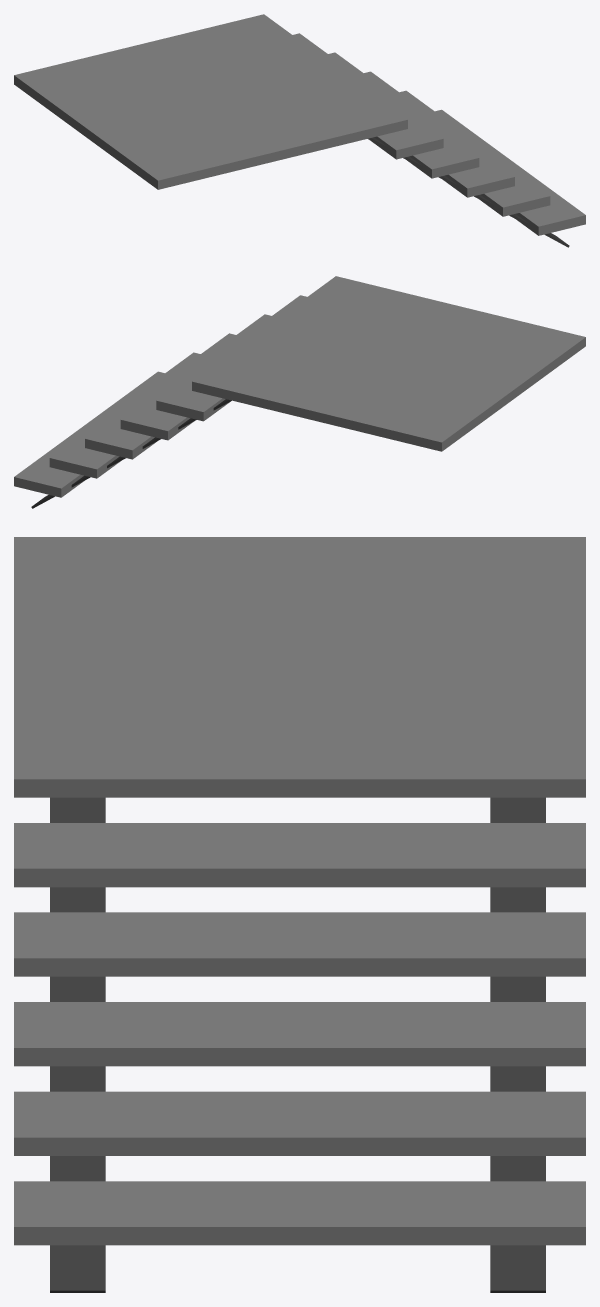
File: stairs_01_Platform.fbx
3 views of the same model, one above another, from view 1: azimuth 30°, elevation 25°; view 2: azimuth 150°, elevation 25°; view 3: azimuth 270°, elevation 25° (orthographic). The views are drawn at different scales.
Parts seen in each view (by area): view 1: stairs_01_Platform; view 2: stairs_01_Platform; view 3: stairs_01_Platform.
Part boxes in pixels (bbox=[...]): stairs_01_Platform: bbox=[14, 14, 585, 247]; stairs_01_Platform: bbox=[14, 276, 585, 508]; stairs_01_Platform: bbox=[14, 537, 585, 1292].
Size of the model in its own units: 396 by 156 by 231.
